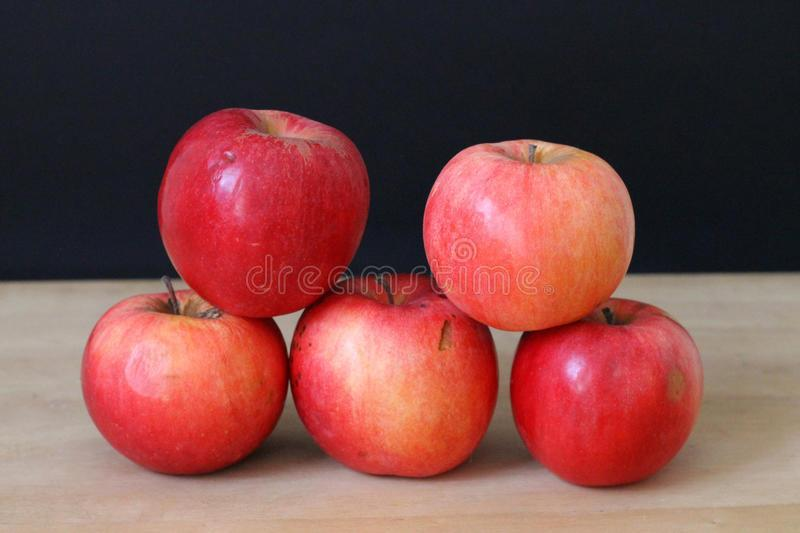apple: (155, 109, 373, 322), (419, 141, 632, 331), (82, 286, 289, 478), (289, 284, 496, 476), (512, 294, 703, 486)
